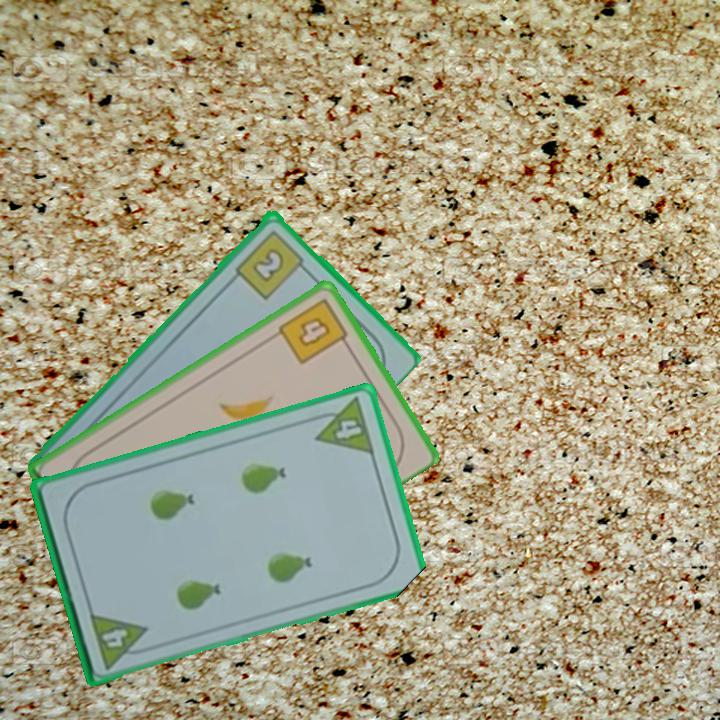2b: (231, 226, 312, 302)
4b: (274, 294, 354, 367)
4p: (306, 394, 378, 457), (87, 608, 155, 672)
